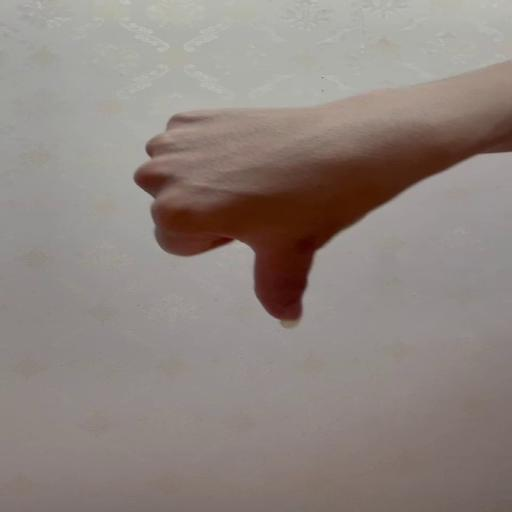thumbs_down: (135, 108, 440, 329)
